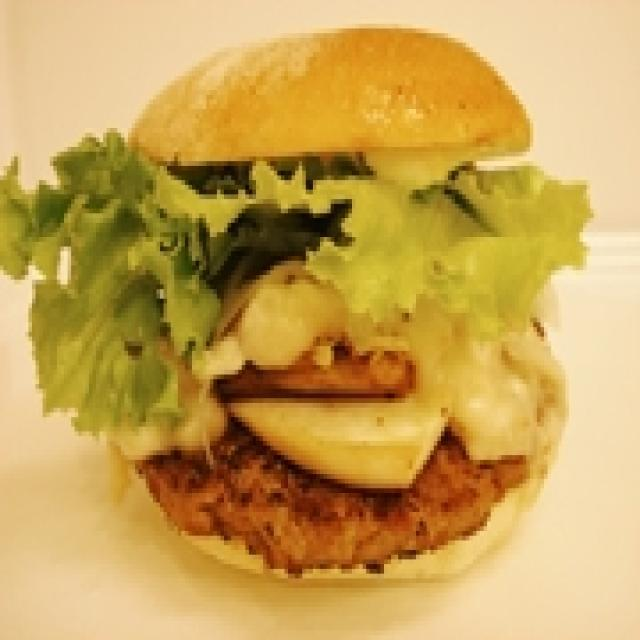Hamburger: (0, 0, 597, 592)
